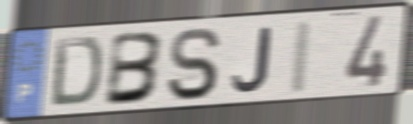4: (343, 11, 390, 91)
B: (102, 30, 167, 108)
D: (48, 35, 104, 109)
I: (287, 17, 316, 96)
J: (230, 25, 272, 94)
S: (165, 25, 224, 103)
